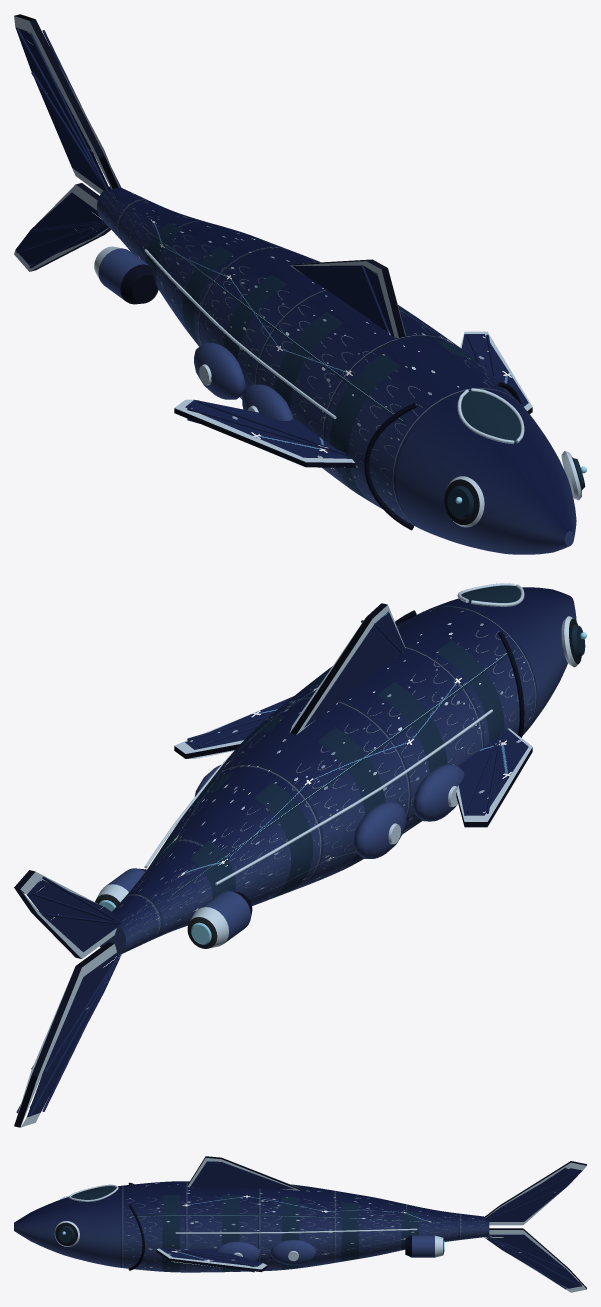
3 views of the same model, one above another, from view 1: azimuth 30°, elevation 25°; view 2: azimuth 150°, elevation 25°; view 3: azimuth 270°, elevation 25° (orthographic). The views are drawn at different scales.
Visible parts, largest first — view 1: pilotfish_hull; view 2: pilotfish_hull; view 3: pilotfish_hull.
Boxes of the visible parts, box(x1,y1,x2,y2) form: pilotfish_hull: box(14, 14, 586, 554); pilotfish_hull: box(14, 583, 586, 1127); pilotfish_hull: box(14, 1156, 586, 1292).
Bounding box in the file's own units: 5.24 × 4.16 × 16.
Materials: 1 (1 with a texture image).
